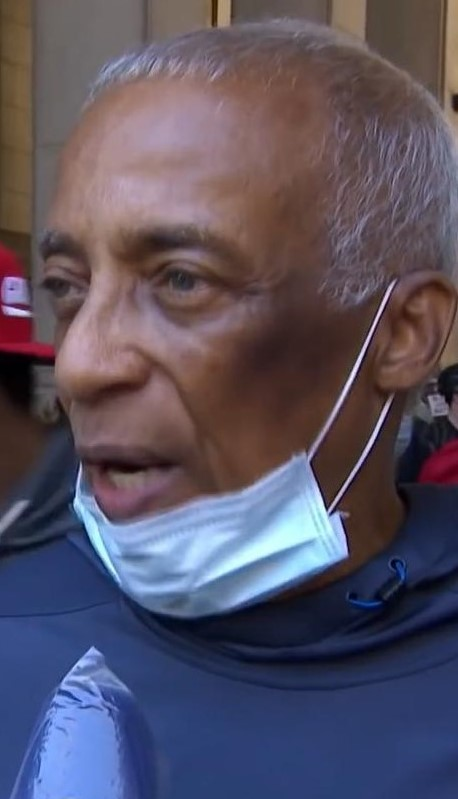with_incorrect_mask: (82, 191, 312, 535)
